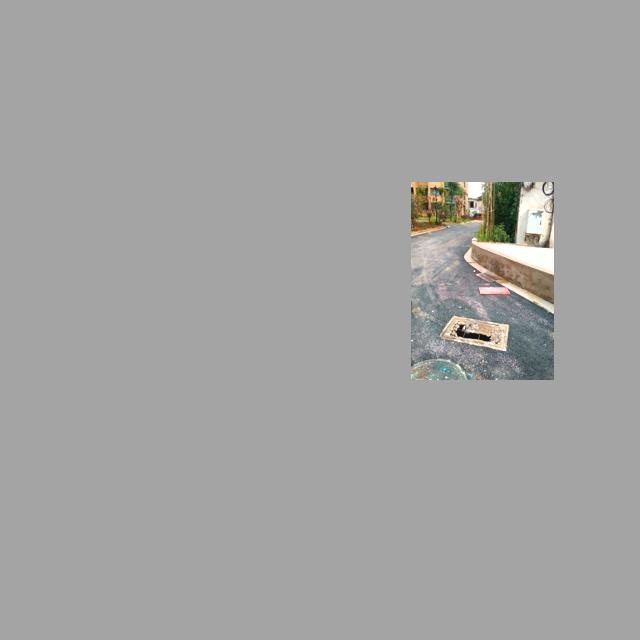broke: (440, 315, 510, 351)
good: (411, 359, 469, 379)
